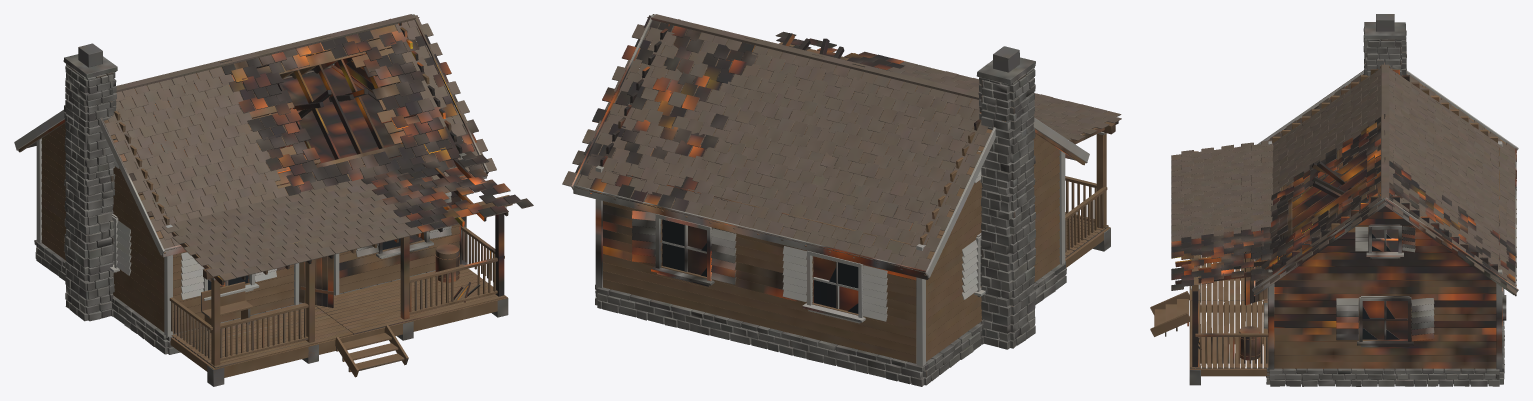
The model's file is house.glb.
3 views of the same model, side by side, from view 1: azimuth 30°, elevation 25°; view 2: azimuth 150°, elevation 25°; view 3: azimuth 270°, elevation 25° (orthographic). The views are drawn at different scales.
Visible parts, largest first — view 1: AR_house; view 2: AR_house; view 3: AR_house.
Boxes of the visible parts, x1,y1,x2,y2 form: AR_house: [14, 14, 533, 386]; AR_house: [562, 14, 1121, 386]; AR_house: [1150, 14, 1518, 386].
Bounding box in the file's own units: 9.61 × 7.01 × 9.79.
1 material, 1 textured.
